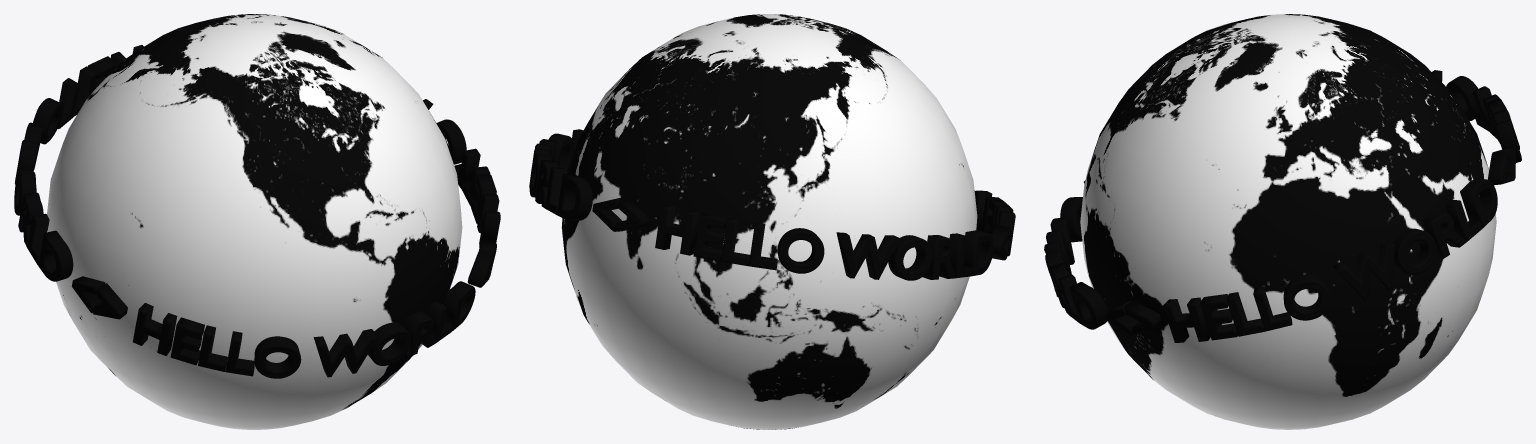
Rendered from NewhelloPlanet.glb.
The picture shows the model from 3 angles, left to right: view 1: azimuth 30°, elevation 25°; view 2: azimuth 150°, elevation 25°; view 3: azimuth 270°, elevation 25°; orthographic projection.
Parts seen in each view (by area): view 1: Sphere.001, Text; view 2: Sphere.001, Text; view 3: Sphere.001, Text.
Part boxes in pixels (<box>): Sphere.001: <box>47,14,462,429</box>; Text: <box>14,45,500,378</box>; Sphere.001: <box>561,14,977,429</box>; Text: <box>529,129,1015,280</box>; Sphere.001: <box>1080,14,1496,429</box>; Text: <box>1044,70,1521,342</box>.
Bounding box in the file's own units: 4.81 × 4.12 × 4.73.
2 materials, 1 textured.
